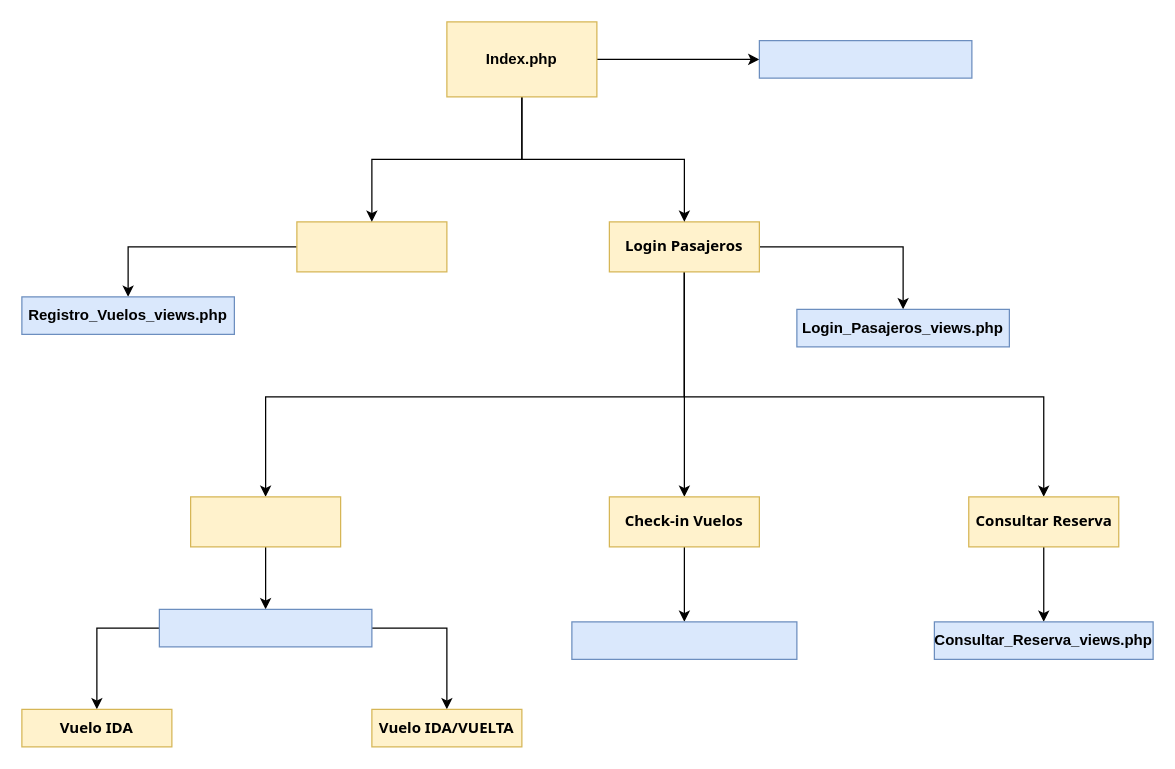
The diagram is 1175 pixels wide and 769 high, and some of its shapes have lost their labels. Each missing label, with the centre of its shape:
Check_in_views.php: point (684, 640)
Registro Pasajero: point (371, 246)
Reserva Vuelos: point (265, 521)
Reserva_Vuelos_views.php: point (265, 627)
Web_Reservas_views.php: point (865, 58)
